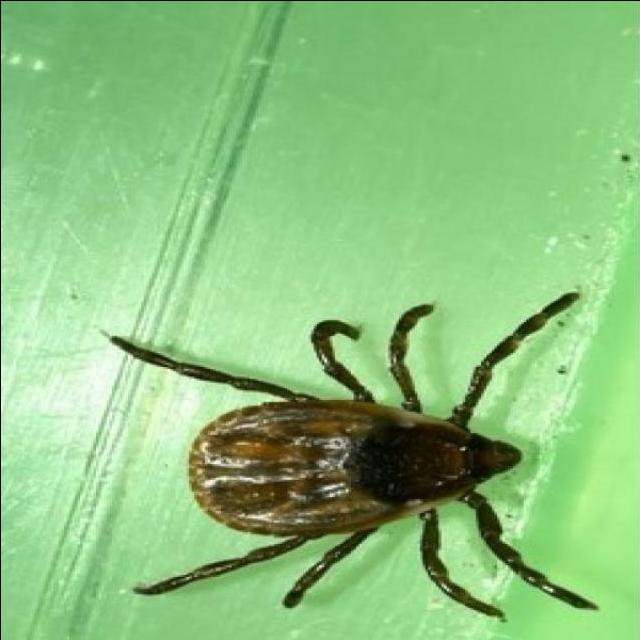Rhipicephalus Sanguineus-F: (109, 288, 601, 621)
